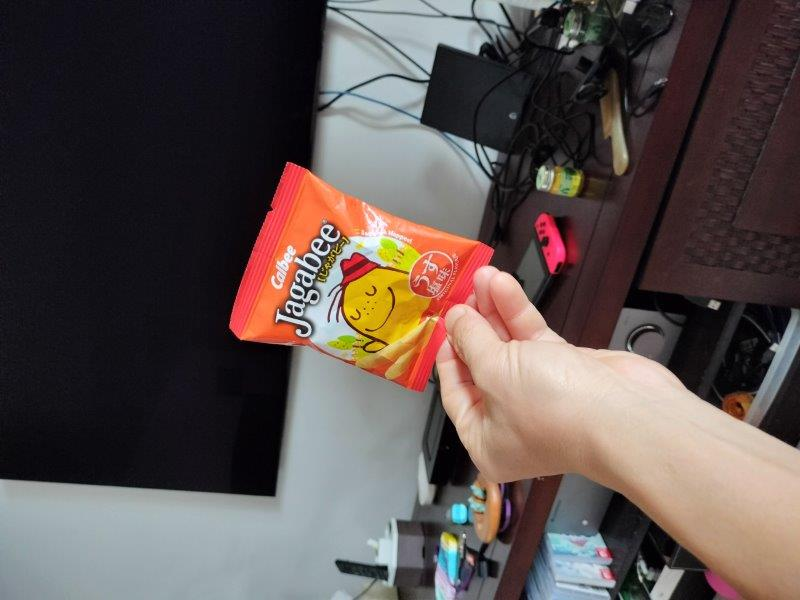Jagabee: (231, 162, 491, 383)
